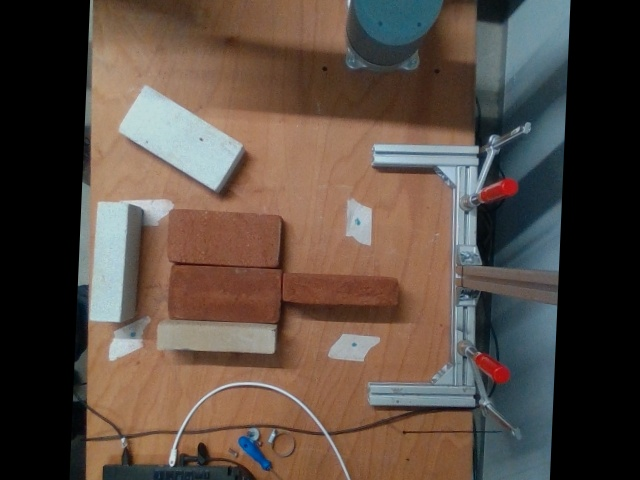brick: (118, 86, 242, 190), (169, 266, 279, 323), (168, 212, 279, 264)
brick-side: (91, 203, 127, 322), (283, 274, 397, 306), (157, 324, 274, 353)
